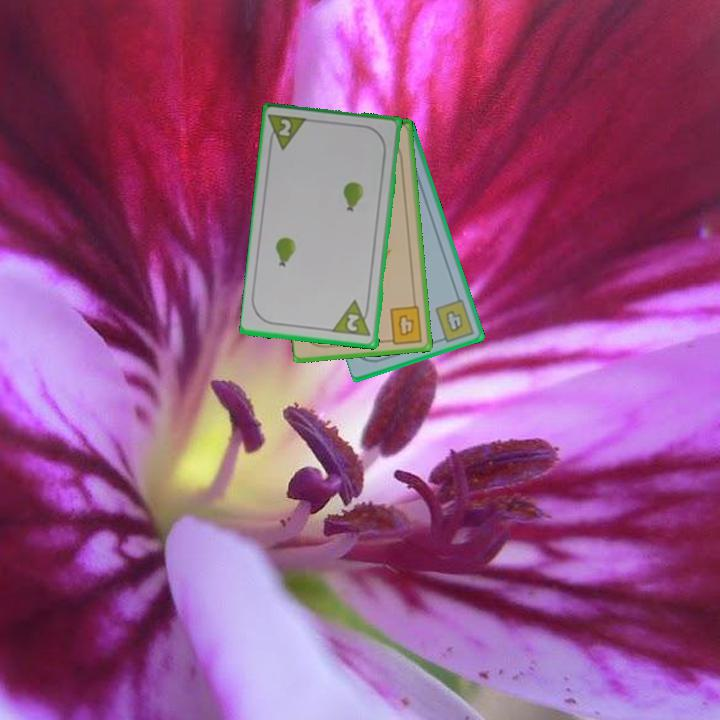2p: (265, 111, 311, 153), (330, 297, 374, 340)
4b: (432, 296, 477, 345), (383, 303, 425, 347)
